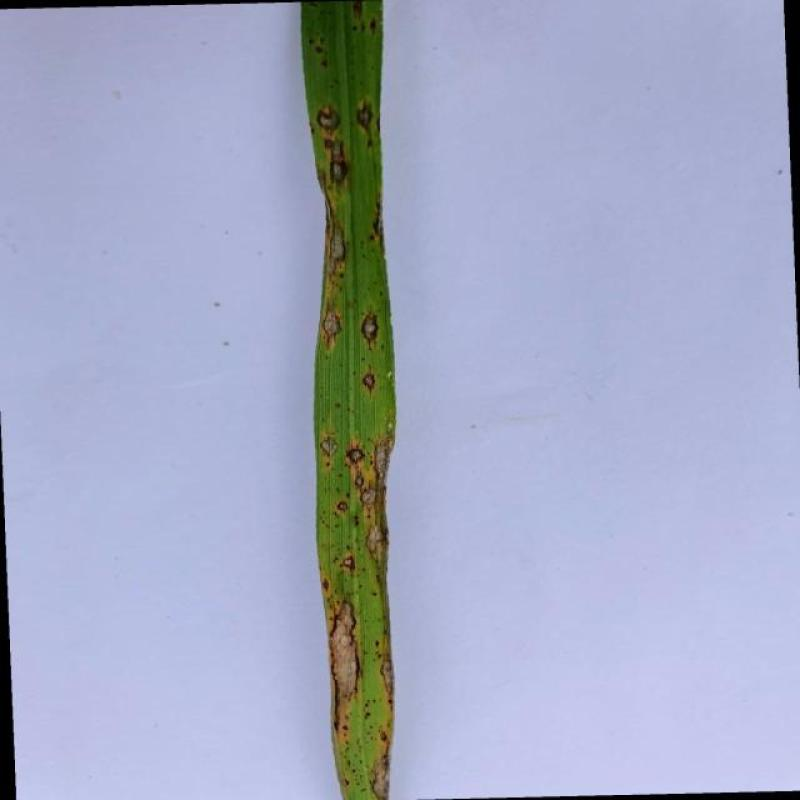Leaf_Blast: (330, 598, 360, 742), (325, 215, 350, 287), (370, 431, 395, 485), (370, 745, 391, 800), (322, 303, 344, 352), (359, 305, 381, 353), (378, 650, 397, 702), (318, 103, 344, 136), (365, 521, 387, 559), (371, 194, 385, 250), (328, 155, 350, 190), (353, 103, 375, 132), (360, 484, 379, 515), (362, 364, 376, 396), (320, 435, 339, 457), (345, 446, 366, 465), (335, 496, 351, 518), (354, 470, 365, 489), (366, 19, 379, 35), (376, 728, 390, 742), (353, 0, 365, 16), (344, 552, 352, 572), (321, 576, 331, 592), (321, 138, 335, 148)
